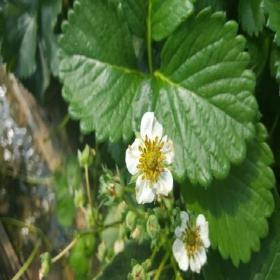Blossom Blight: (135, 132, 167, 190)
